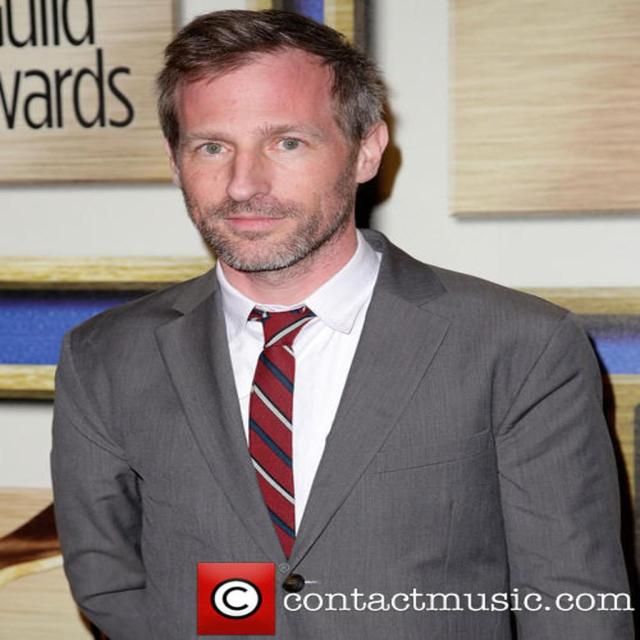Face: (156, 50, 368, 286)
